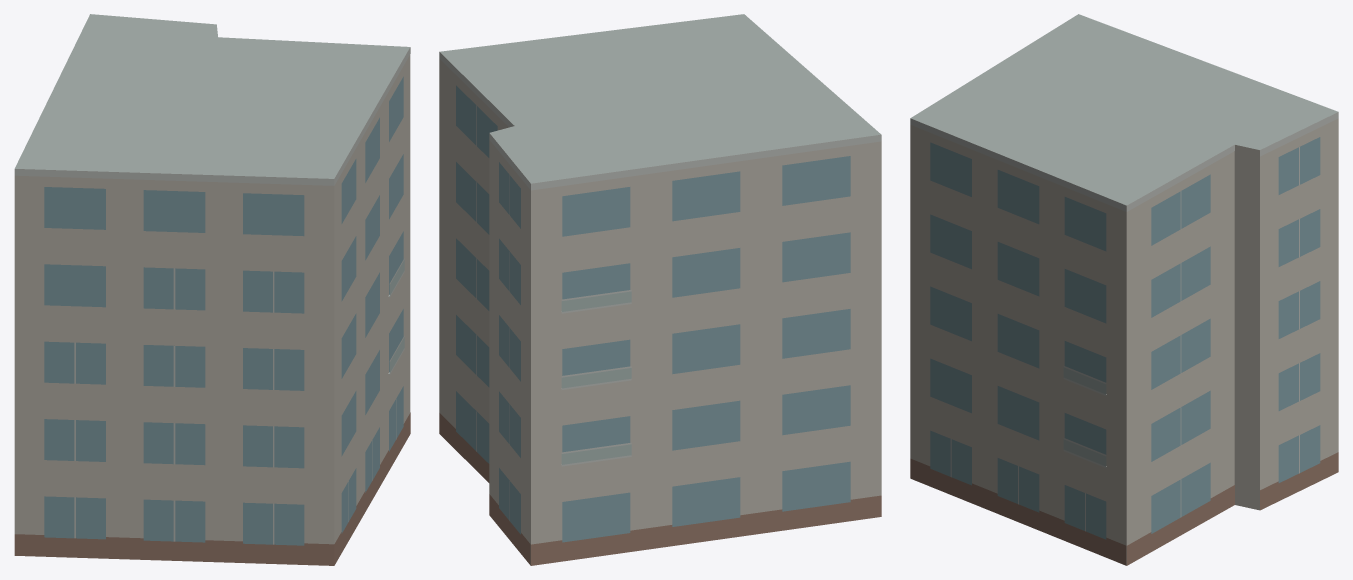
The model's file is survey-upis-32855709.glb.
3 renders of one model, left to right at view 1: azimuth 30°, elevation 25°; view 2: azimuth 150°, elevation 25°; view 3: azimuth 270°, elevation 25°, orthographic. The views are drawn at different scales.
Visible parts, largest first — view 1: survey-upis-32855709.tmp; view 2: survey-upis-32855709.tmp; view 3: survey-upis-32855709.tmp.
Part boxes in pixels (left/top/right/bottom): survey-upis-32855709.tmp: left=14, top=14, right=410, bottom=565; survey-upis-32855709.tmp: left=439, top=14, right=881, bottom=565; survey-upis-32855709.tmp: left=910, top=14, right=1338, bottom=565.
Bounding box in the file's own units: 15.64 × 13.7 × 14.77.
